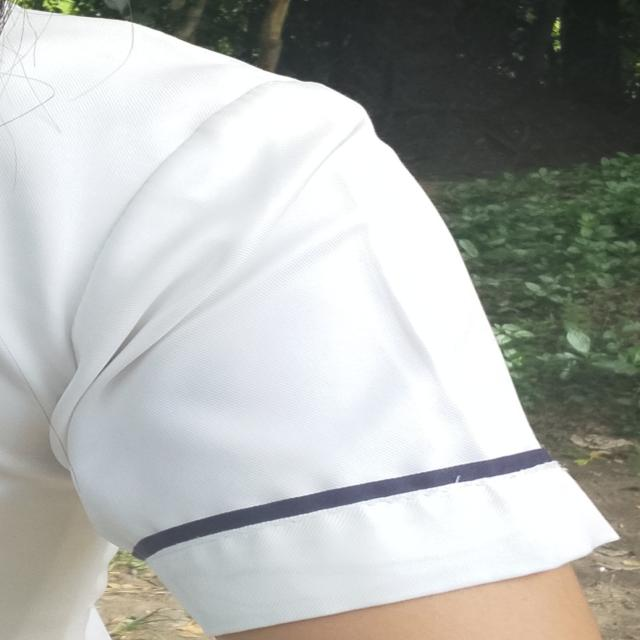education_female_uniform: (0, 6, 630, 628)
